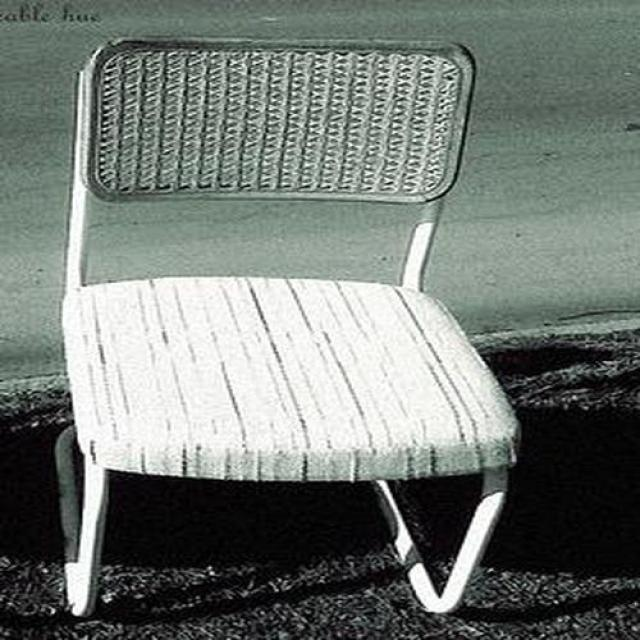chair: (55, 40, 521, 623)
